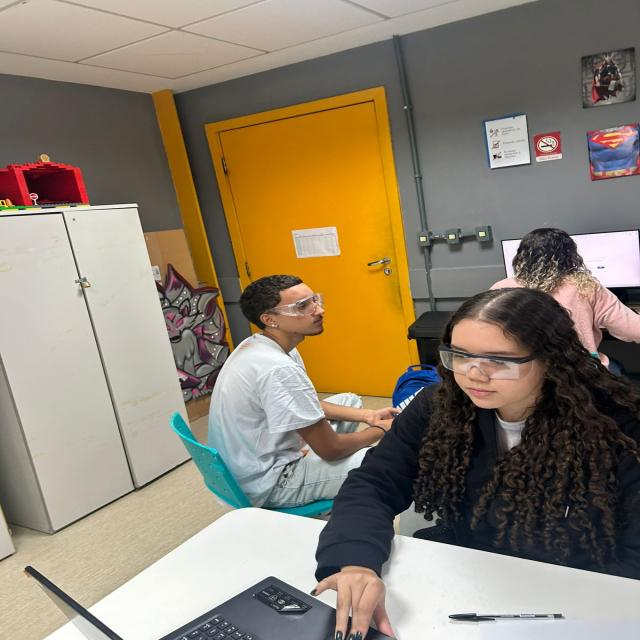oculos-epi: (437, 345, 537, 379), (264, 294, 325, 316)
